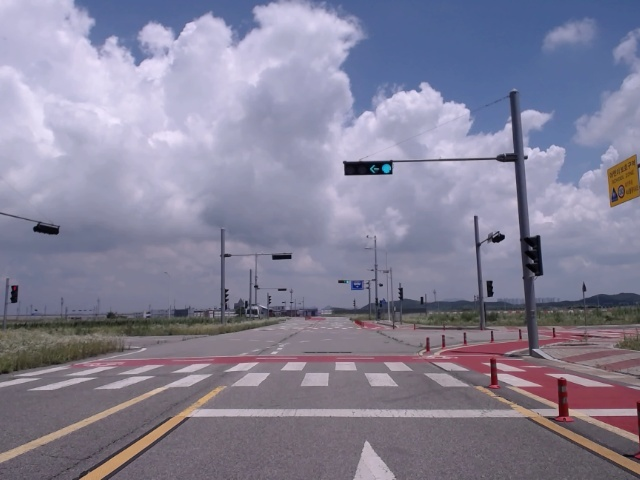all_green_4: (343, 162, 394, 176)
